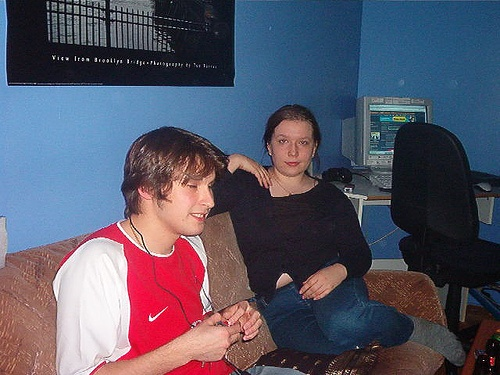head: (137, 142, 218, 241), (263, 104, 322, 177)
person: (208, 103, 468, 375), (49, 117, 263, 375)
